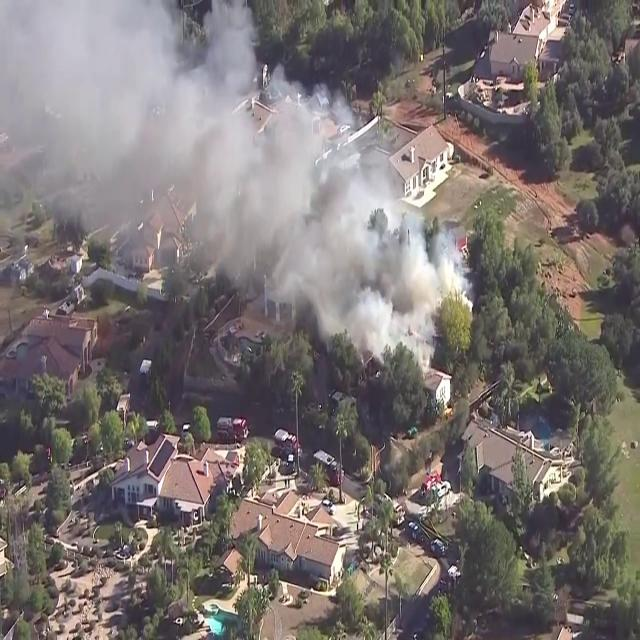Smoke: (0, 1, 473, 361)
